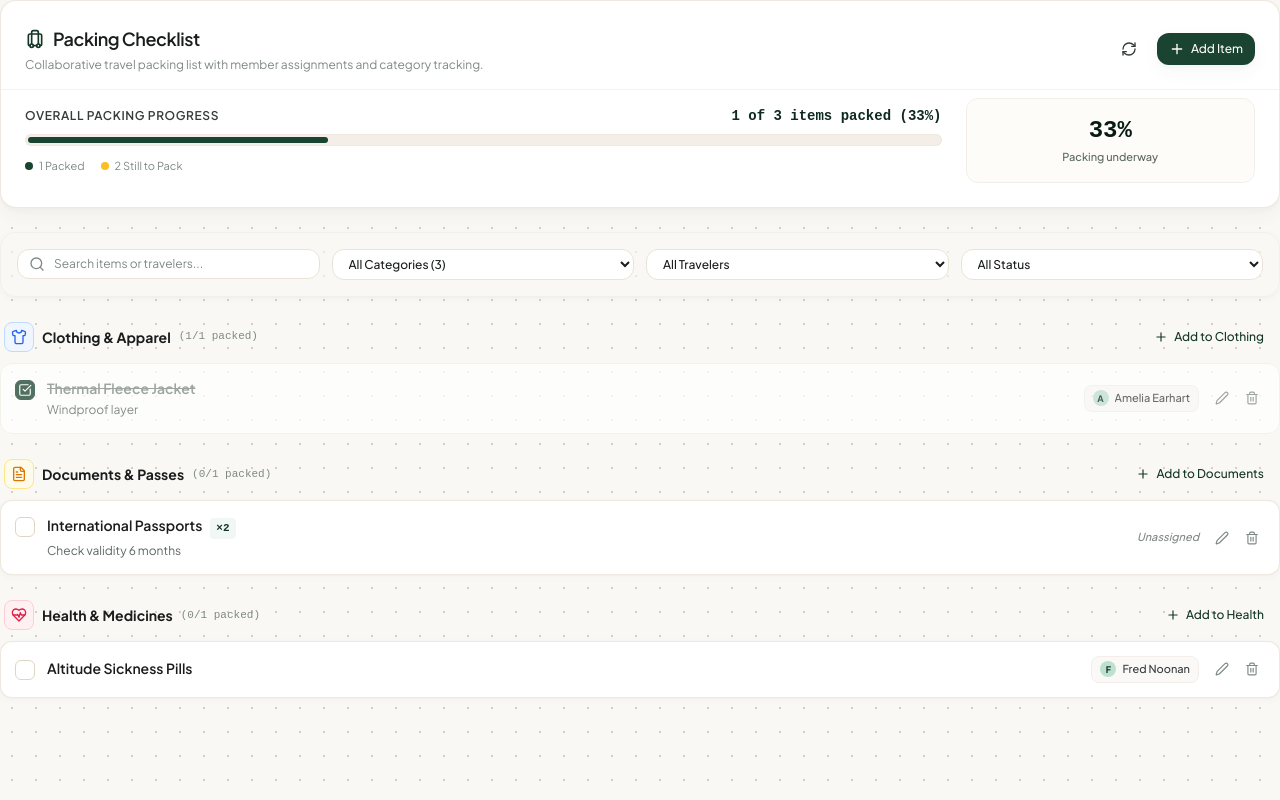
Test: PackingChecklist & TripActivityFeed Component UI Tests › PackingChecklist UI › filters items by search query
The width and height of the screenshot is (1280, 800).
Check: the text "Thermal Fleece Jacket" is shown, box x1=47 y1=378 x2=196 y2=398
Step 1. Type "Passports" into the field with placeholder "Search items or travelers..." → {"x": 168, "y": 264}, box x1=17 y1=248 x2=320 y2=278
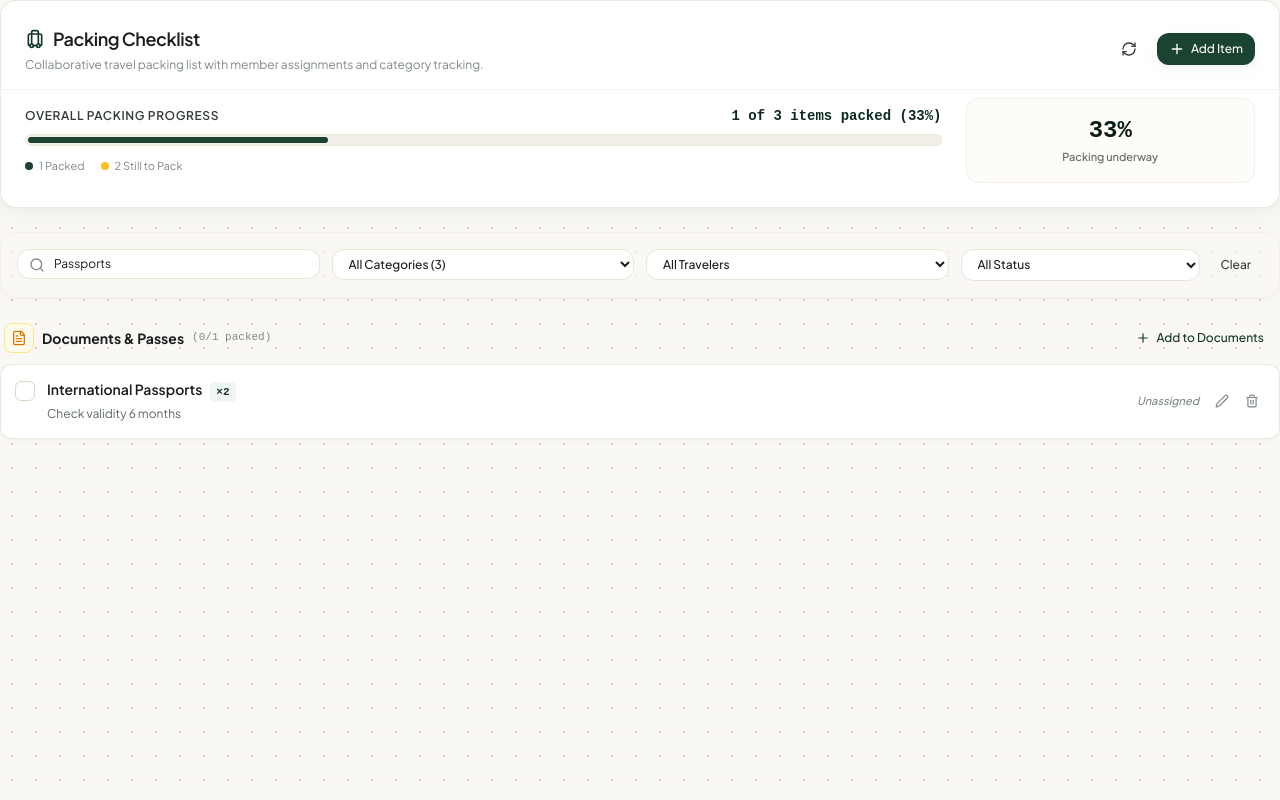
Check: the text "International Passports" is shown, box x1=47 y1=378 x2=202 y2=398
Check: the text "Thermal Fleece Jacket" is gone
